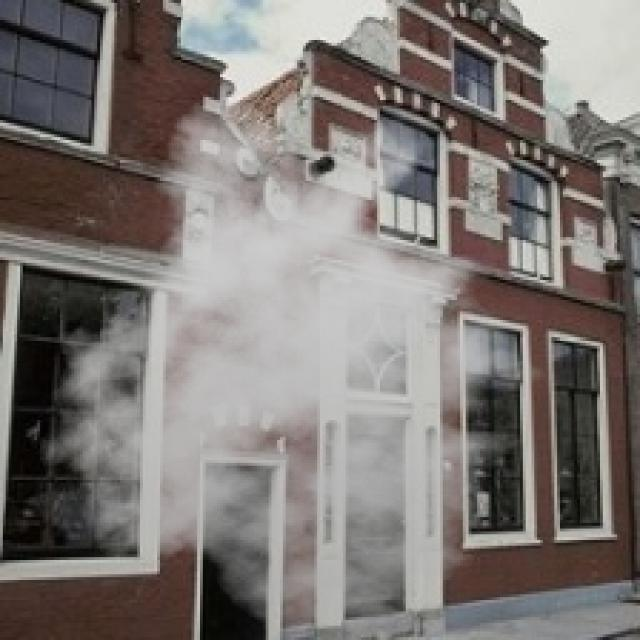Smoke: (26, 97, 568, 634)
